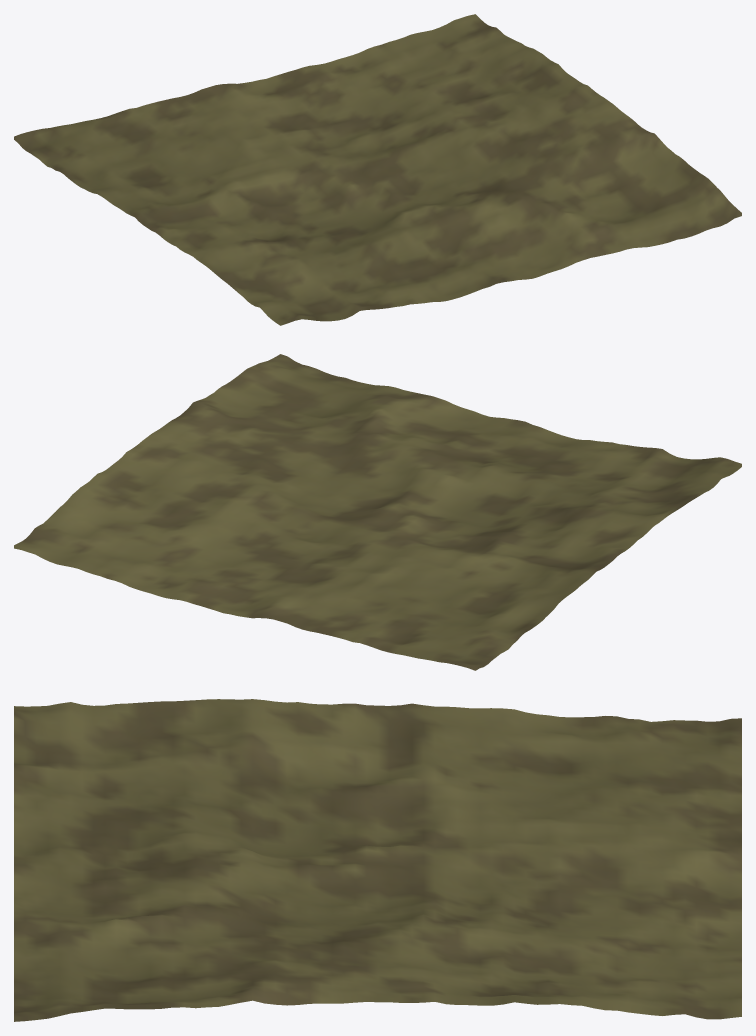
The model's file is land_f_09_09.glb.
3 views of the same model, one above another, from view 1: azimuth 30°, elevation 25°; view 2: azimuth 150°, elevation 25°; view 3: azimuth 270°, elevation 25° (orthographic). The views are drawn at different scales.
Visible parts, largest first — view 1: land_f_09_09; view 2: land_f_09_09; view 3: land_f_09_09.
Boxes of the visible parts, box(x1,y1,x2,y2) form: land_f_09_09: box(14, 14, 741, 325); land_f_09_09: box(14, 354, 741, 670); land_f_09_09: box(14, 699, 741, 1021).
Size of the model in its own units: 3840 by 258 by 3840.
